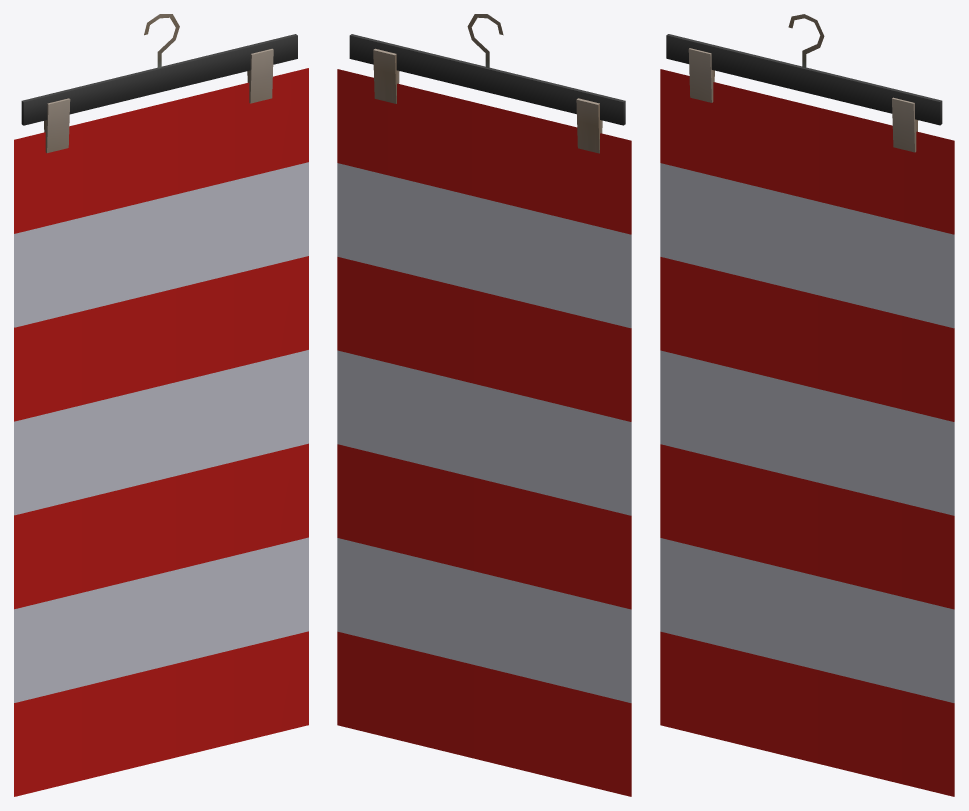
File: Hang_Towel_06.fbx
3 views of the same model, side by side, from view 1: azimuth 30°, elevation 25°; view 2: azimuth 150°, elevation 25°; view 3: azimuth 330°, elevation 25° (orthographic).
Parts seen in each view (by area): view 1: Hang_Towel_06; view 2: Hang_Towel_06; view 3: Hang_Towel_06.
Part boxes in pixels (x1=…): Hang_Towel_06: x1=14, y1=14, x2=308, y2=796; Hang_Towel_06: x1=337, y1=14, x2=631, y2=796; Hang_Towel_06: x1=660, y1=14, x2=954, y2=796.
Bounding box in the file's own units: 0.1666 × 0.4044 × 0.00506.
